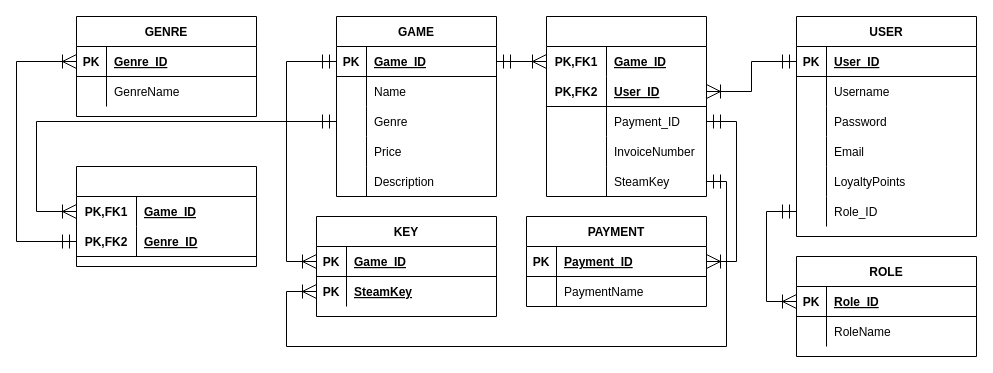
This 993x373 diagram has some shape labels left out. Here are the shapes that lost their labels. From the top down, the box of each, then its label:
(546, 16, 706, 196): GAME-USER
(76, 166, 256, 266): GAME-GENRE
